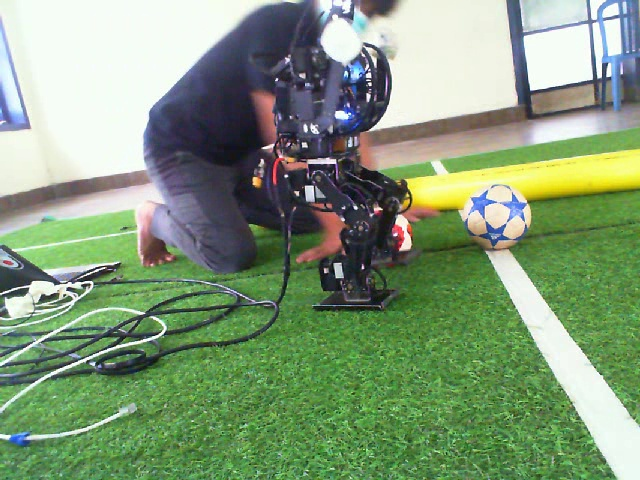ball: (460, 181, 533, 252), (390, 208, 415, 256)
